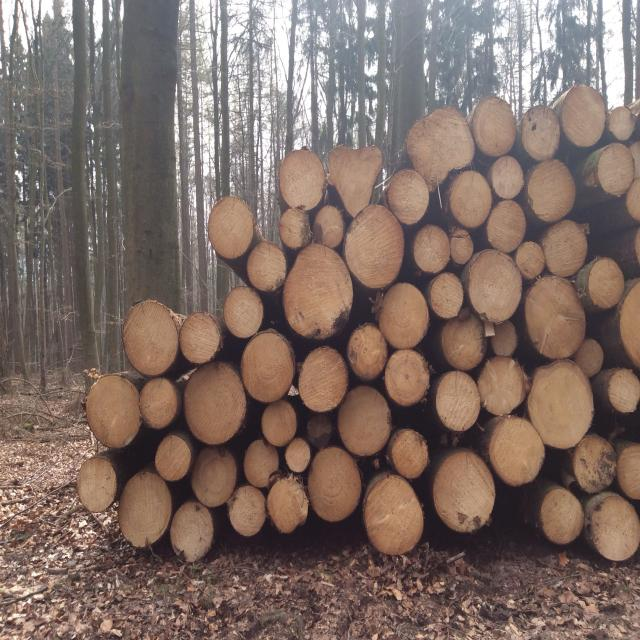wood-log: (282, 244, 352, 340), (526, 360, 596, 449), (185, 359, 249, 443), (430, 452, 494, 535), (526, 278, 588, 362), (407, 108, 475, 182), (342, 205, 402, 288), (362, 473, 422, 553), (487, 415, 548, 486), (123, 304, 181, 378), (308, 447, 364, 523), (88, 374, 144, 450), (119, 472, 174, 548), (466, 249, 523, 320), (337, 388, 394, 458), (325, 144, 382, 212), (239, 330, 293, 401), (378, 284, 431, 352), (586, 495, 638, 564), (296, 344, 347, 411), (525, 162, 576, 225), (557, 84, 606, 146), (208, 195, 256, 258), (434, 370, 482, 432), (277, 150, 326, 210), (478, 358, 528, 416), (191, 449, 239, 509), (439, 309, 484, 372), (468, 99, 516, 158), (169, 500, 214, 561), (381, 349, 429, 406), (446, 171, 492, 229), (540, 487, 585, 546), (543, 218, 590, 274), (266, 474, 309, 533), (572, 432, 614, 492), (346, 324, 390, 380), (388, 171, 430, 226), (180, 314, 224, 365), (78, 458, 118, 514), (522, 106, 562, 161), (486, 198, 526, 252), (138, 378, 179, 430), (223, 287, 264, 338), (228, 486, 268, 538), (586, 258, 626, 310), (247, 243, 287, 294), (597, 145, 635, 197), (389, 429, 428, 479), (414, 225, 452, 274), (156, 434, 194, 482), (243, 438, 280, 487), (619, 281, 640, 367), (428, 272, 465, 318), (262, 400, 299, 446), (604, 365, 640, 411), (308, 206, 346, 248), (489, 157, 524, 199), (616, 442, 640, 500), (278, 209, 310, 249), (574, 338, 605, 376), (516, 243, 546, 281), (608, 108, 639, 142), (491, 322, 519, 358), (284, 438, 311, 473), (308, 413, 335, 445), (451, 230, 474, 264), (626, 178, 640, 222), (629, 141, 640, 173), (633, 228, 640, 262)
